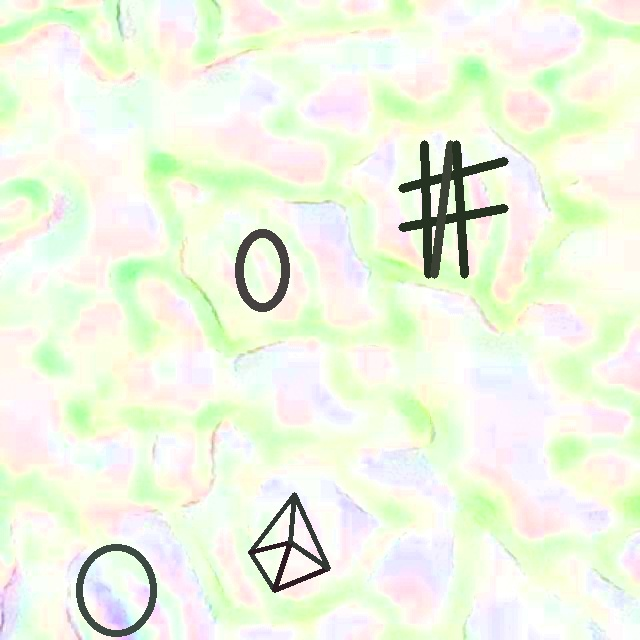close: (249, 492, 330, 591), (234, 229, 290, 311)
open: (399, 141, 507, 277), (75, 544, 156, 637)
